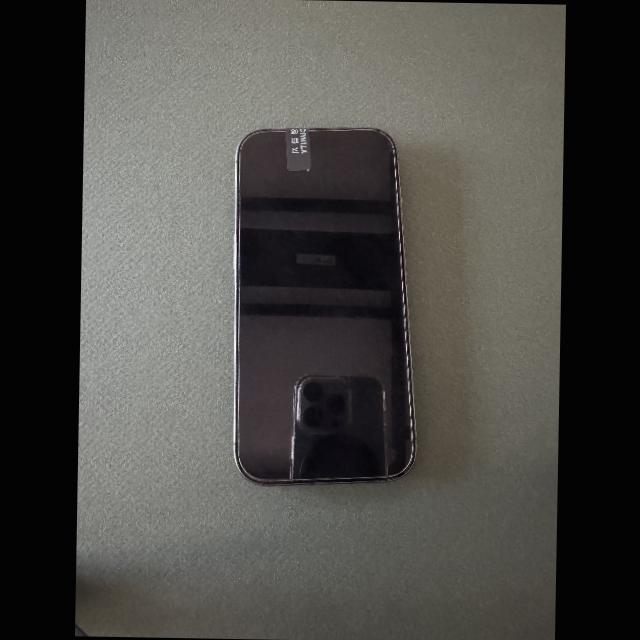phone: (234, 127, 416, 485)
sticker: (285, 127, 310, 170)
